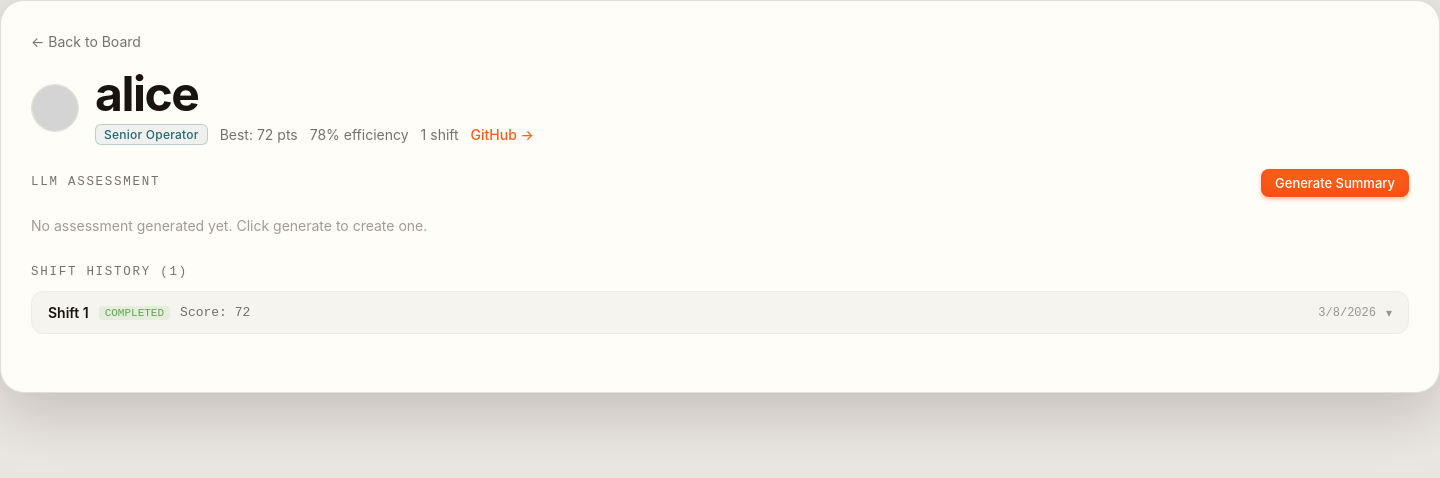
Scenario: AdminDetailView › shows error when generation fails
Click the button "Generate Summary" at x=1335, y=183, box left=1261, top=169, right=1409, bottom=197
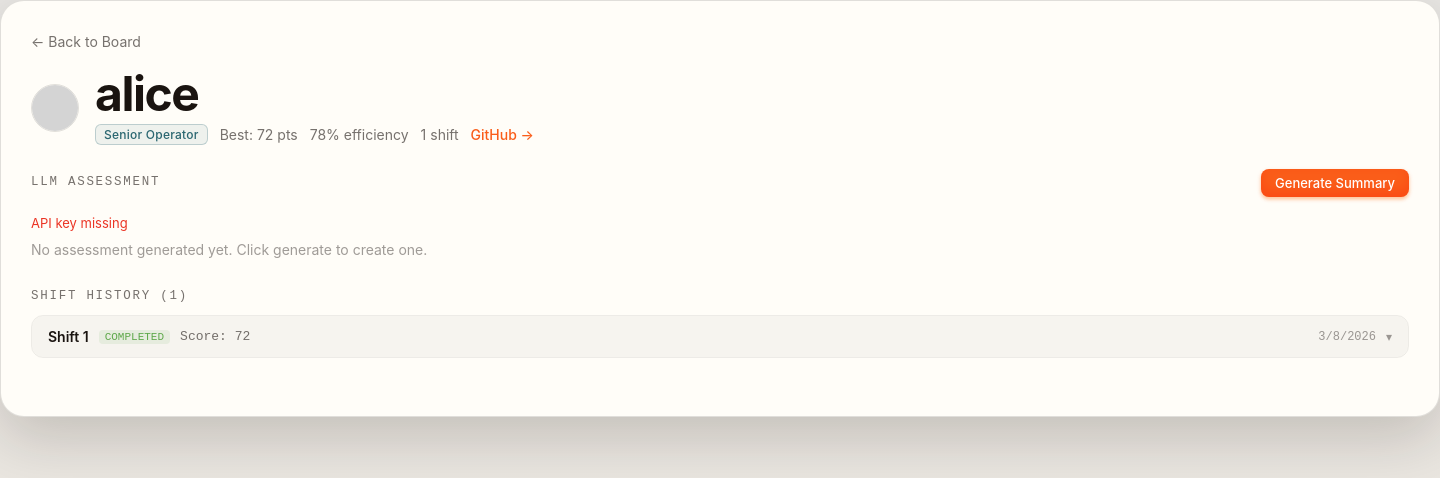
expect the text "API key missing" is shown: met, box left=31, top=215, right=128, bottom=231
